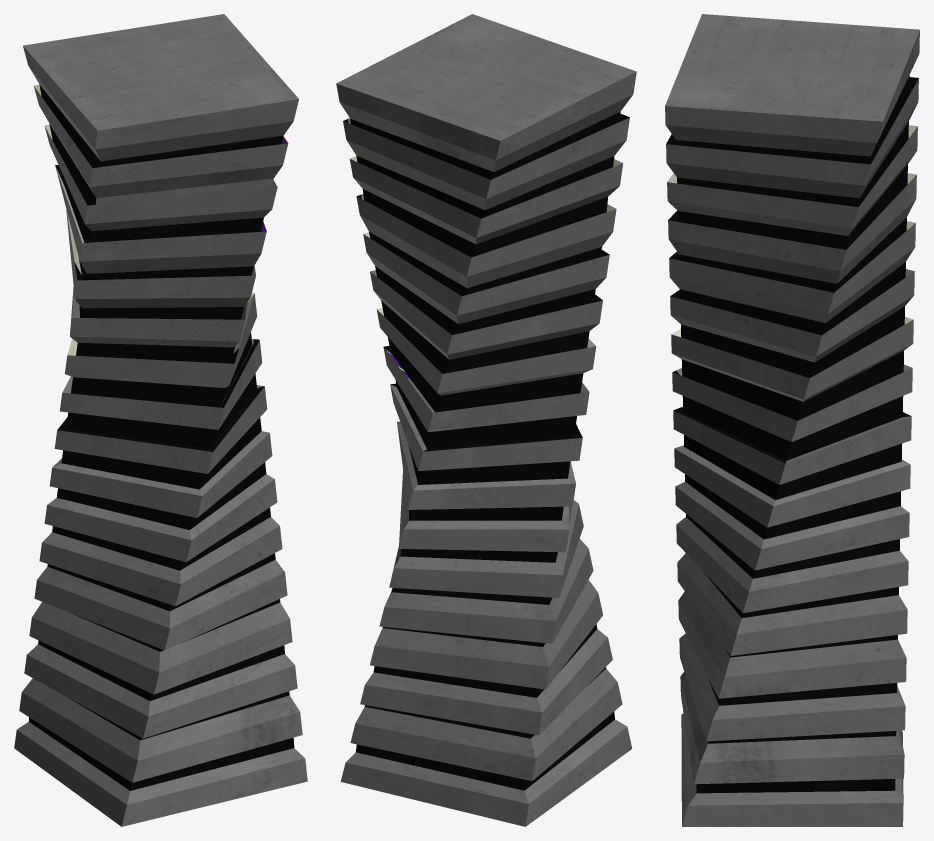
The model's file is Building 2.fbx.
3 views of the same model, side by side, from view 1: azimuth 30°, elevation 25°; view 2: azimuth 150°, elevation 25°; view 3: azimuth 270°, elevation 25° (orthographic). The views are drawn at different scales.
Parts seen in each view (by area): view 1: Cube.016; view 2: Cube.016; view 3: Cube.016.
Part boxes in pixels (box(x1,y1,x2,y2)): Cube.016: box(14, 14, 307, 826); Cube.016: box(336, 14, 636, 826); Cube.016: box(665, 14, 919, 826).
Size of the model in its own units: 1530 by 4717 by 1530.
